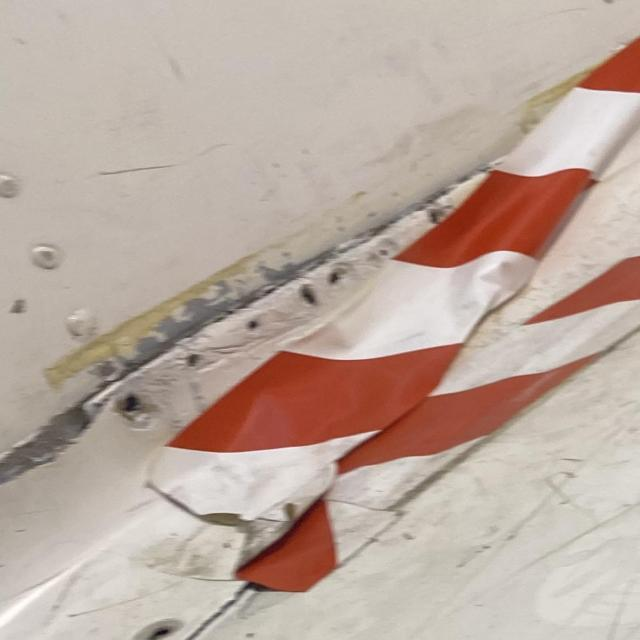Crack: (0, 392, 98, 482)
Missing-head: (129, 618, 180, 640)
Paint-off: (237, 585, 303, 618)
